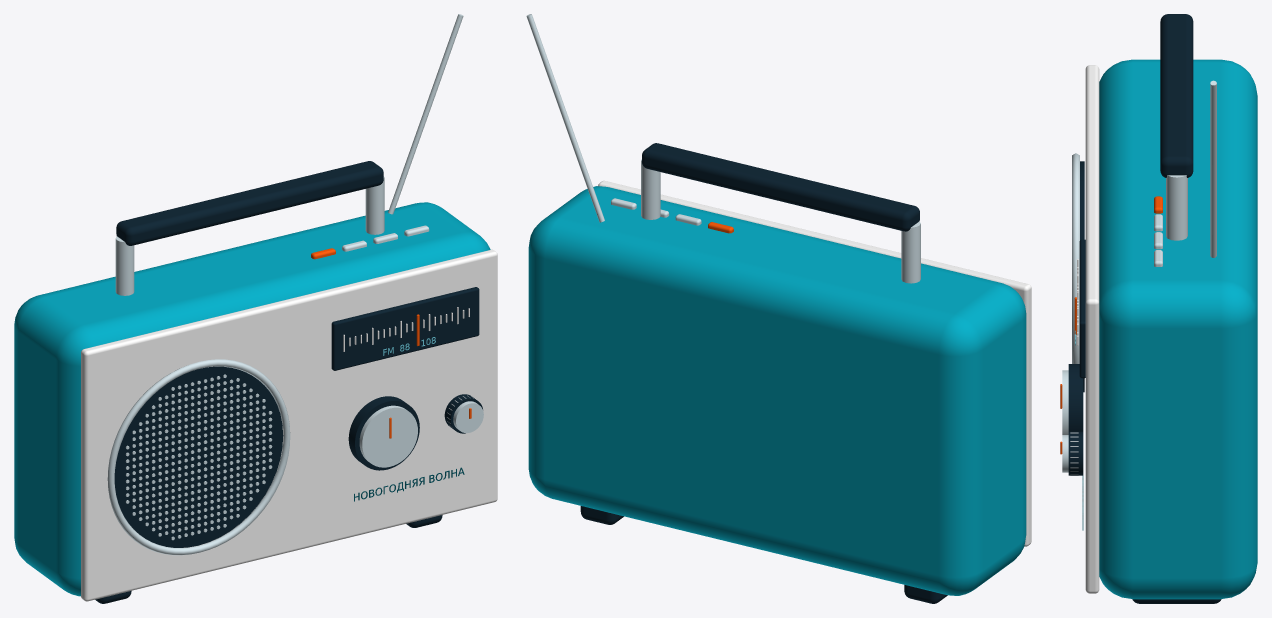
File: RETRO_RADIO.glb
The picture shows the model from 3 angles, left to right: view 1: azimuth 30°, elevation 25°; view 2: azimuth 150°, elevation 25°; view 3: azimuth 270°, elevation 25°; orthographic projection. The views are drawn at different scales.
Size of the model in its own units: 3.27 by 3.33 by 1.07.
